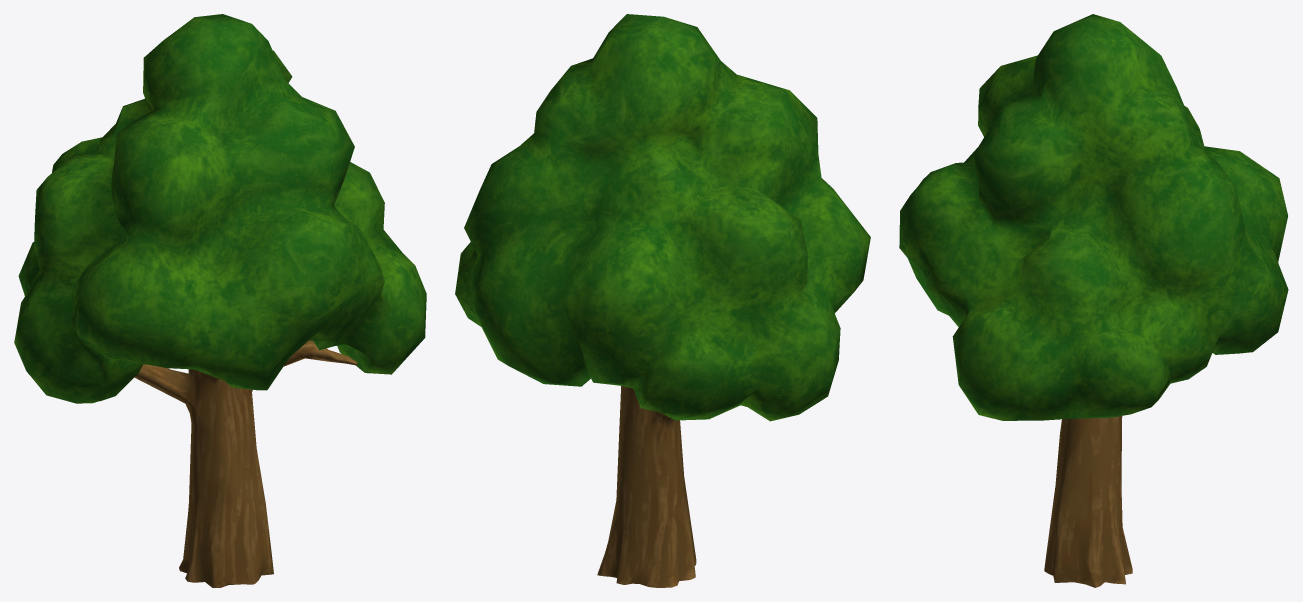
Rendered from Nature_tree03a.fbx.
3 views of the same model, side by side, from view 1: azimuth 30°, elevation 25°; view 2: azimuth 150°, elevation 25°; view 3: azimuth 270°, elevation 25° (orthographic). The views are drawn at different scales.
Parts seen in each view (by area): view 1: leaf1, trunk1; view 2: leaf1, trunk1; view 3: leaf1, trunk1.
Boxes of the visible parts, x1=… form: leaf1: x1=14, y1=14, x2=426, y2=403; trunk1: x1=134, y1=340, x2=357, y2=587; leaf1: x1=455, y1=14, x2=870, y2=421; trunk1: x1=597, y1=386, x2=696, y2=587; leaf1: x1=899, y1=14, x2=1288, y2=420; trunk1: x1=1044, y1=416, x2=1132, y2=587.
Bounding box in the file's own units: 2.66 × 3.85 × 2.5.
